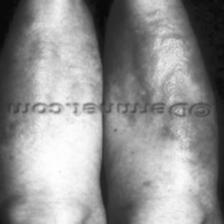Unclassified: (24, 15, 92, 65), (129, 40, 190, 80), (0, 127, 31, 140)
